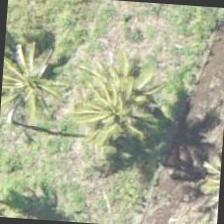Kelapa_Sawit: (73, 61, 169, 158), (0, 40, 74, 136)
